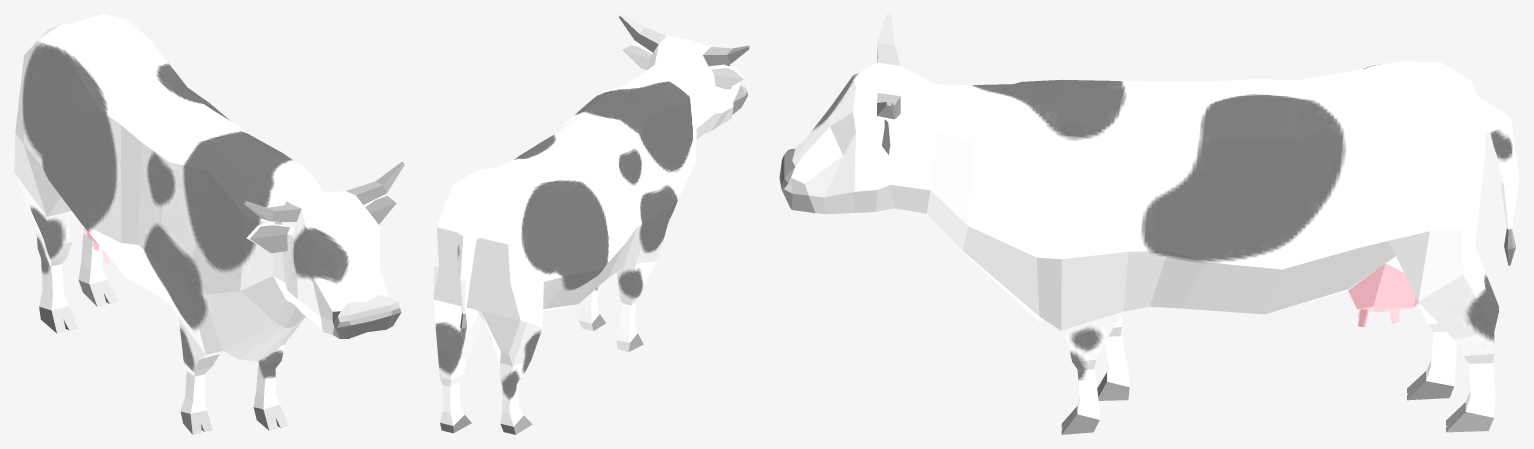
File: animals-cow-044.glb
3 renders of one model, left to right at view 1: azimuth 30°, elevation 25°; view 2: azimuth 150°, elevation 25°; view 3: azimuth 270°, elevation 25°, orthographic. The views are drawn at different scales.
Visible parts, largest first — view 1: Plane_Plane.002; view 2: Plane_Plane.002; view 3: Plane_Plane.002.
Boxes of the visible parts, x1,y1,x2,y2 form: Plane_Plane.002: (14,14,404,434); Plane_Plane.002: (433,14,750,434); Plane_Plane.002: (779,14,1519,434).
Size of the model in its own units: 1.86 by 3.43 by 6.5.
3 materials, 3 textured.
